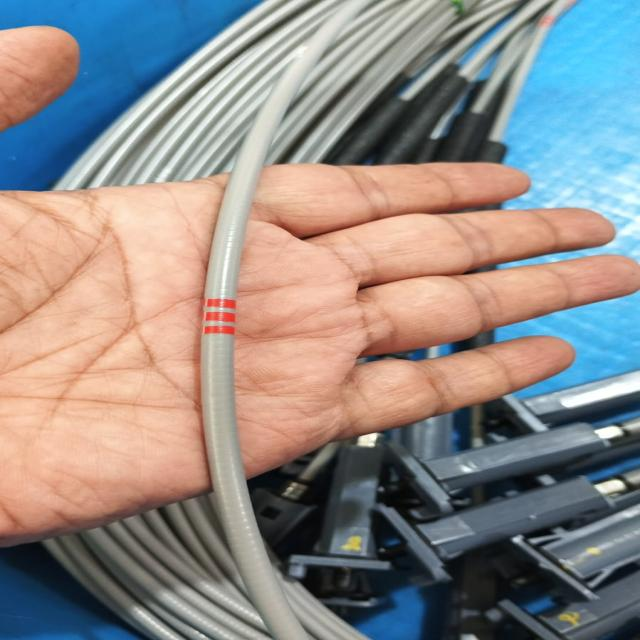red: (201, 298, 239, 338)
